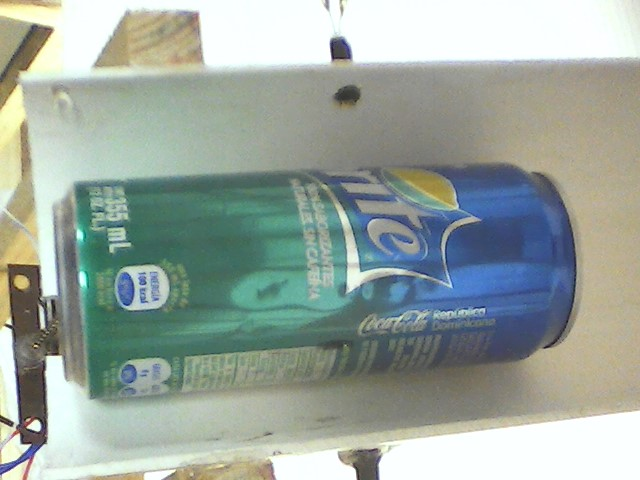lata: (50, 158, 589, 402)
